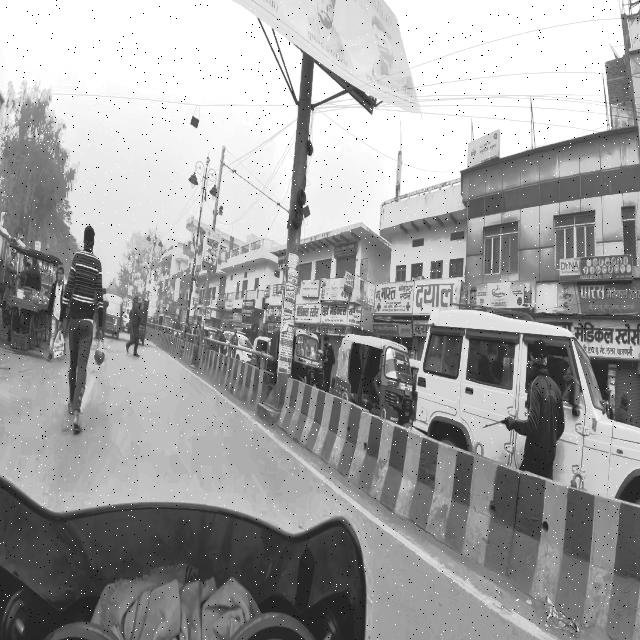Auto-Rickshaw: (334, 326, 416, 431), (294, 324, 326, 391), (102, 290, 124, 342)
Car: (419, 306, 640, 508)
